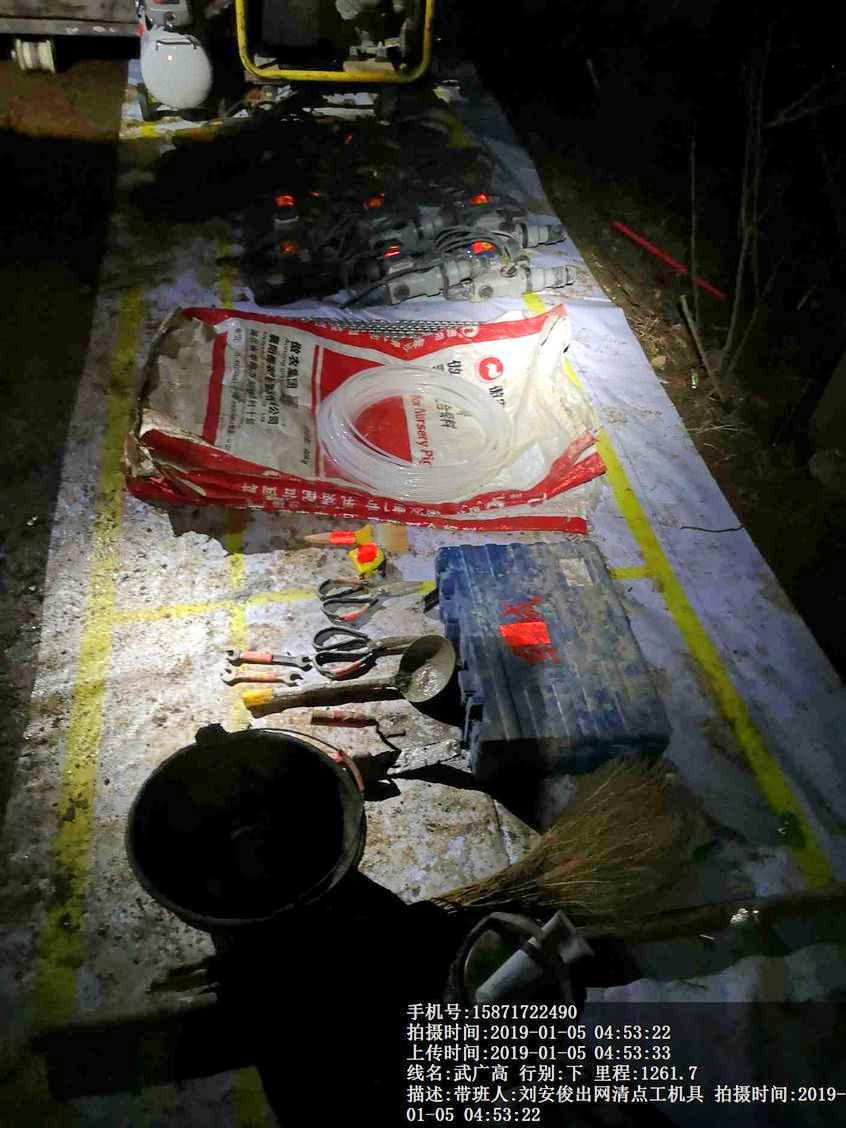BZD: (133, 287, 615, 545)
SG: (313, 356, 517, 497)
SNT: (115, 734, 362, 921)
